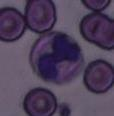N: (30, 32, 84, 85)
